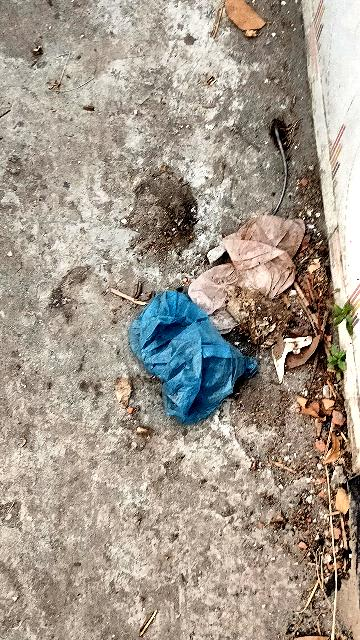polythene: (106, 281, 260, 437)
